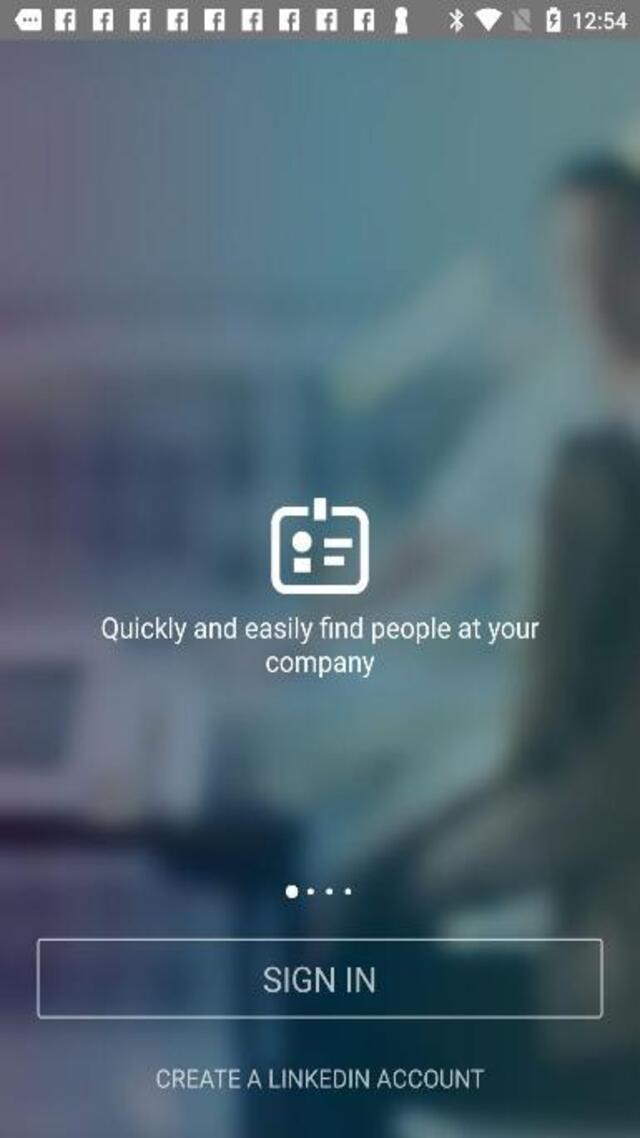Image: (269, 496, 369, 596)
Text: (101, 614, 544, 647), (158, 1068, 484, 1088), (256, 962, 380, 998), (262, 650, 379, 681)
TextButton: (36, 938, 602, 1018)
